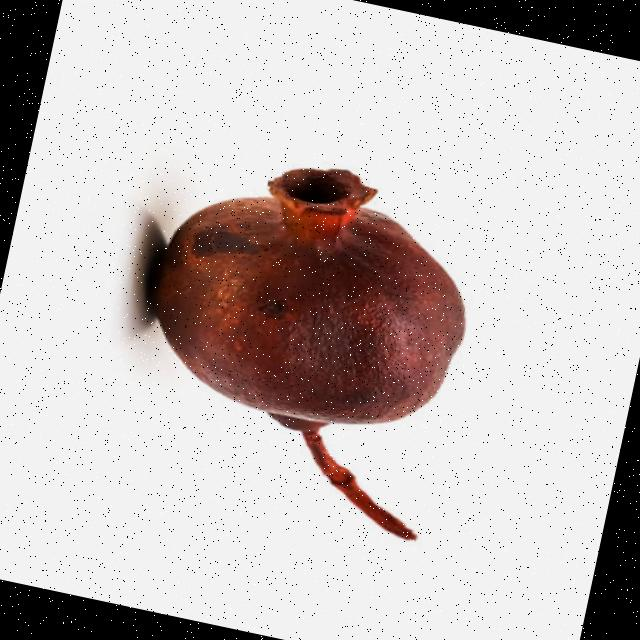overripe: (120, 130, 502, 472)
